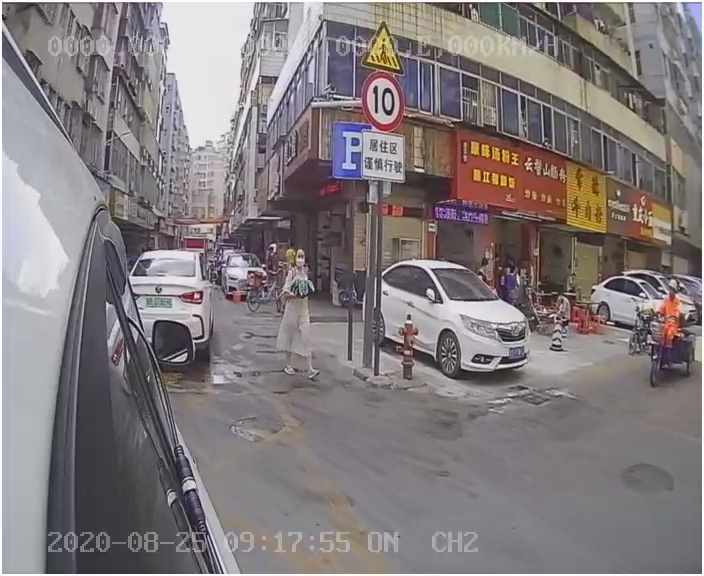person: (275, 250, 332, 384)
